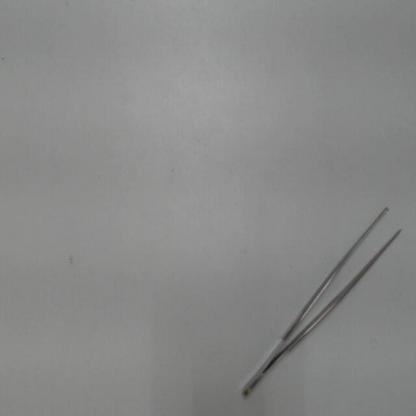Gillies Toothed Dissector: (228, 203, 408, 405)
